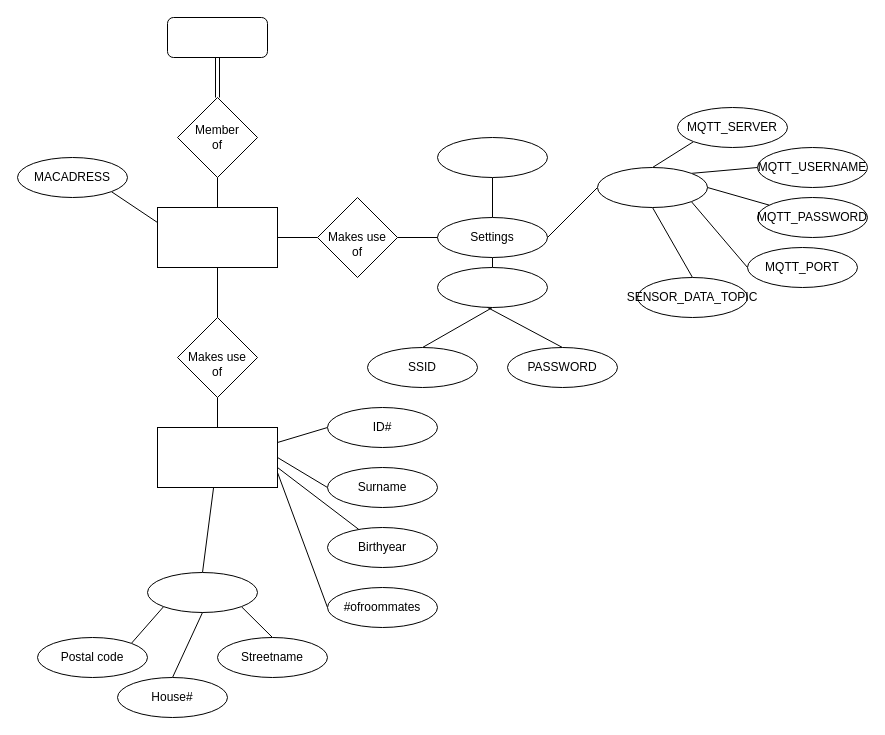
Some shapes in this 885 by 735 pixel diagram are drawn without their labels. Here are the shapes that lost their labels. From the top down, the centre of each, then its label:
At [217,37]: "WasteBinGroup".
At [492,157]: "CLIENT_NAME".
At [652,187]: "MQTT settings".
At [217,237]: "WasteBin".
At [492,287]: "WiFi settings".
At [217,457]: "TestPerson".
At [202,592]: "Address".
